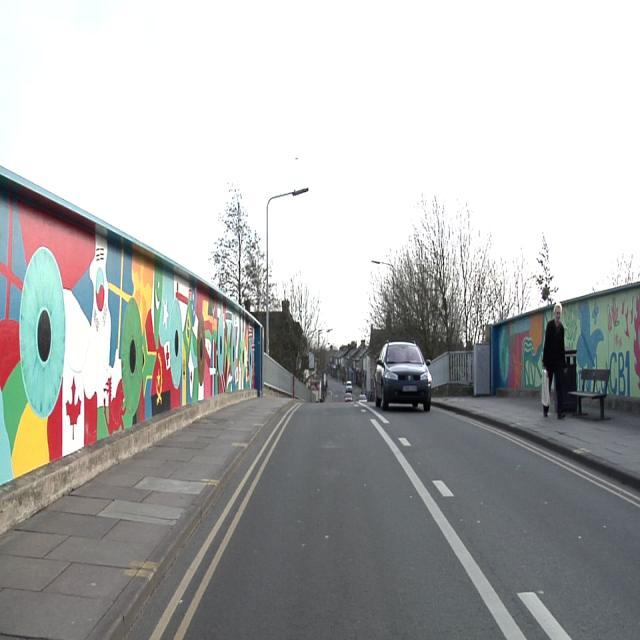Building: (2, 168, 261, 474)
Car: (374, 342, 430, 412), (344, 380, 351, 401)
Road: (177, 400, 635, 638)
Tree: (366, 193, 549, 357), (211, 182, 267, 311), (286, 272, 329, 355)
person: (543, 308, 565, 417)
